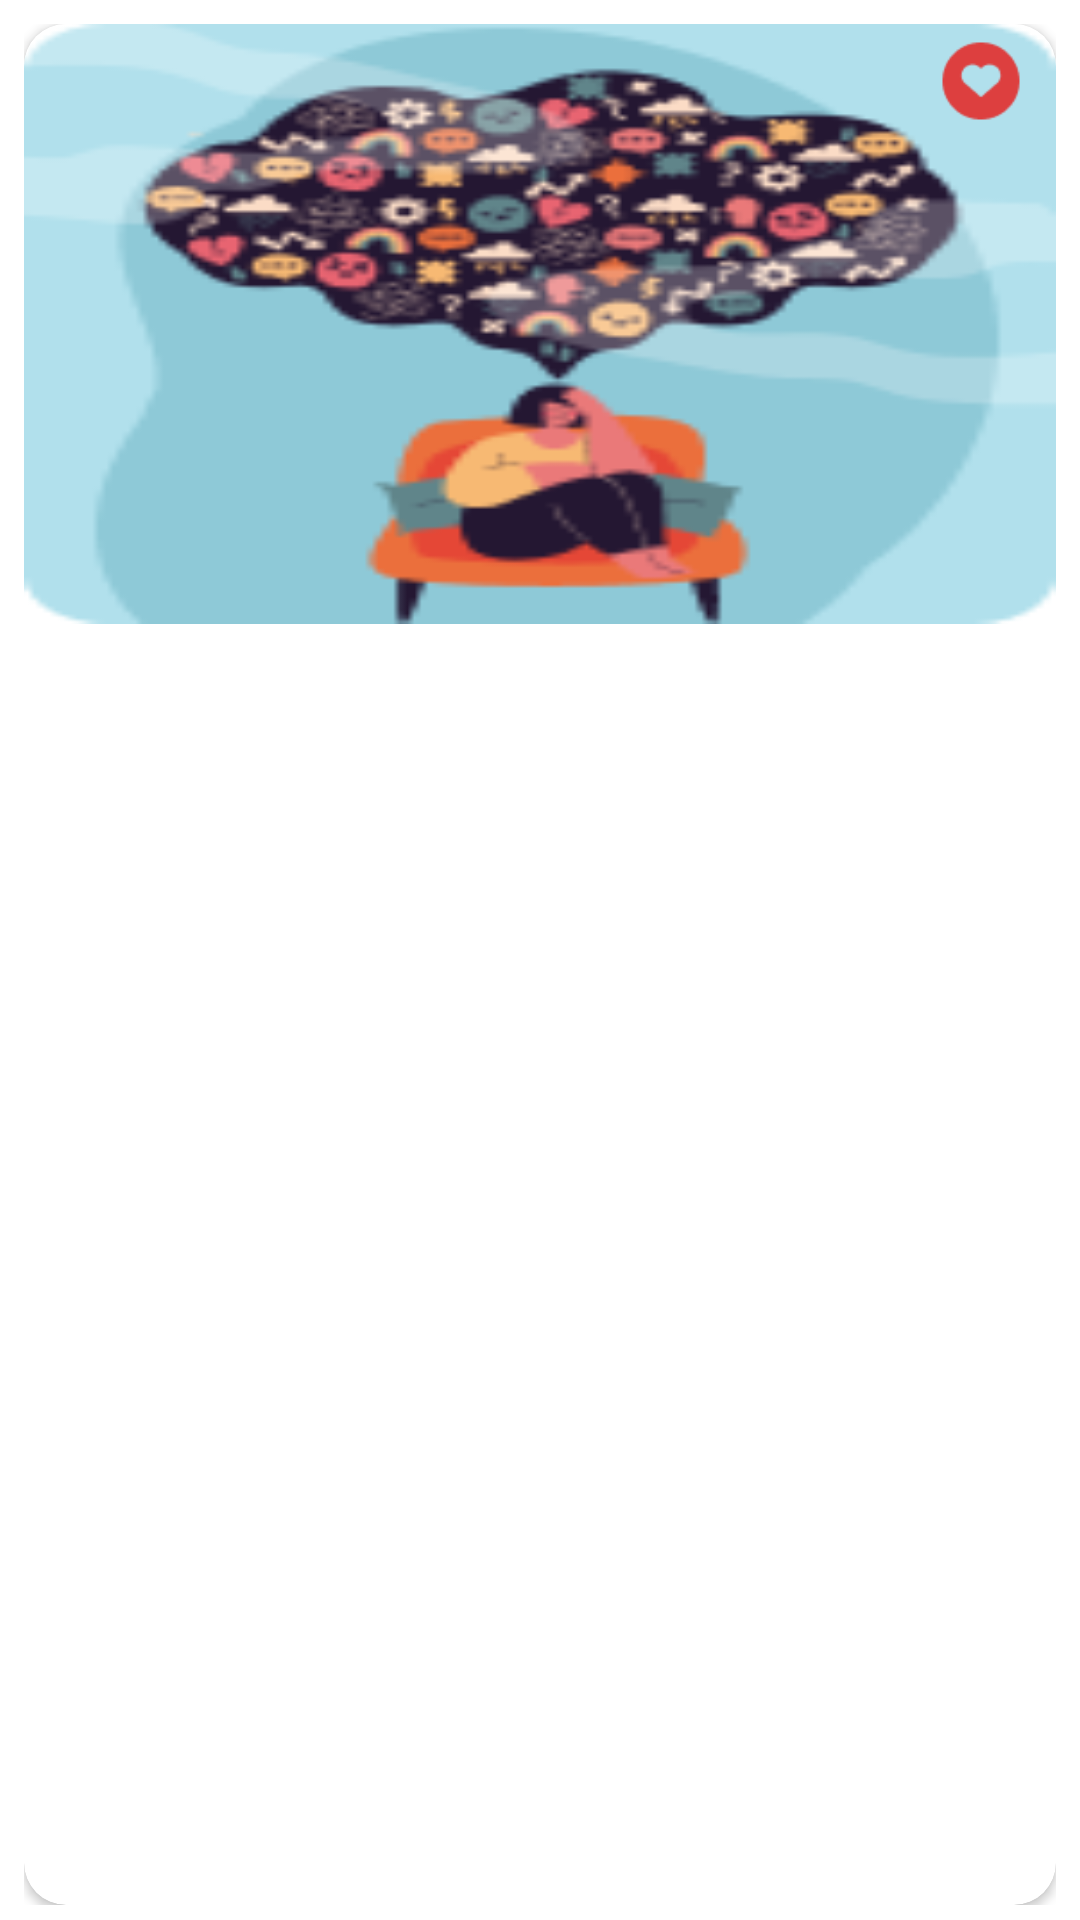

Icons on this 1080*1920 Android screen, each with its box as (x1, y1, x2, y2):
heartred: (942, 42, 1020, 120)
